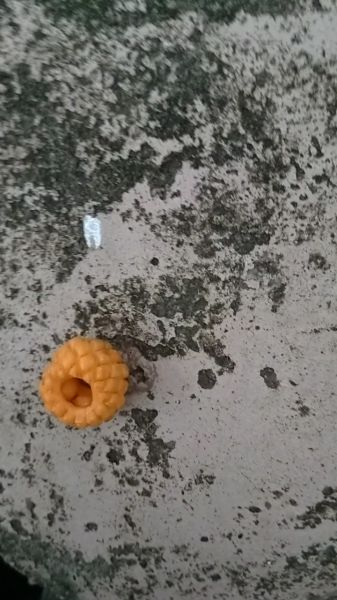eggs: (35, 329, 133, 431)
